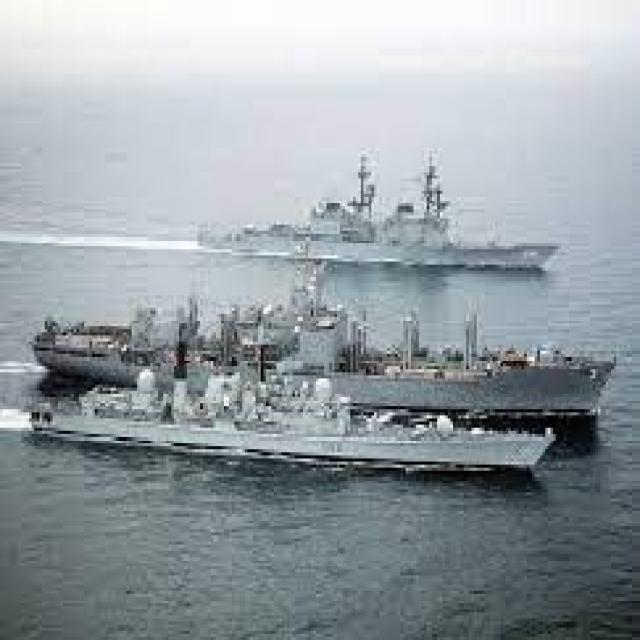navalvessels: (22, 282, 619, 426), (22, 325, 557, 455), (193, 174, 581, 276)
